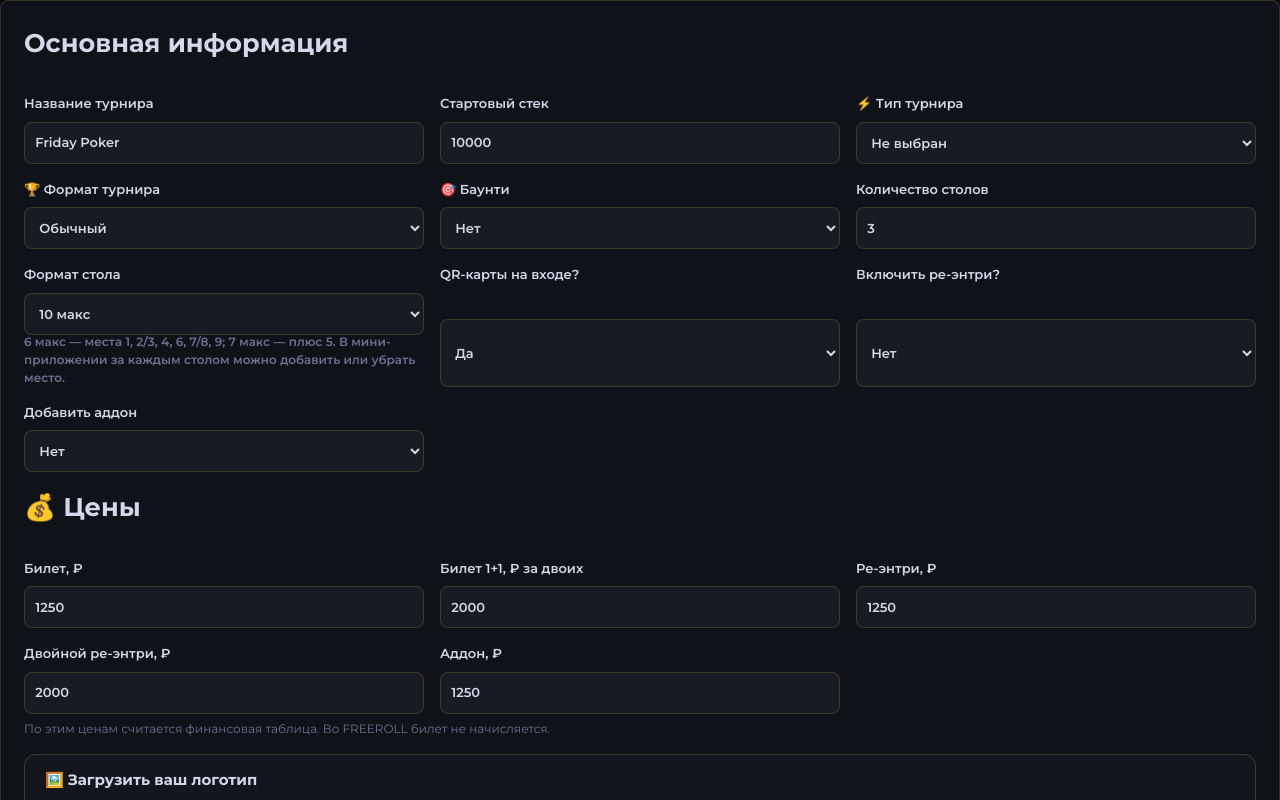
Scenario: re-entry settings UI › autofills every field when the DEEP STACK preset is picked
Select "Дип стек" in the dropdown labelled "⚡ Тип турнира" at [1056, 143], box [856,122,1256,164]
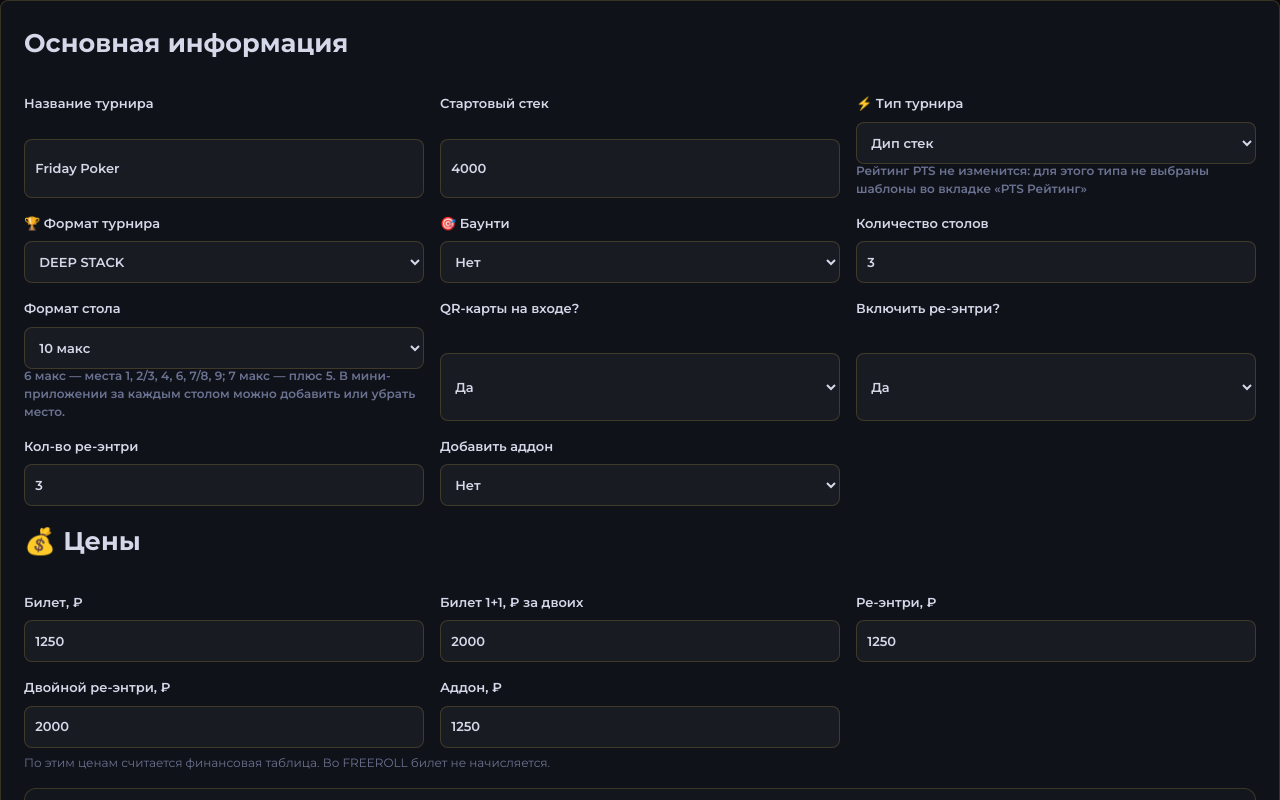
expect the dropdown labelled "🏆 Формат турнира" shows "DEEP STACK": met, box [24,241,424,283]
expect the dropdown labelled "Включить ре-энтри?" shows "Да": met, box [856,353,1256,421]
expect the number field labelled "Кол-во ре-энтри" holds "3": met, box [24,464,424,506]
